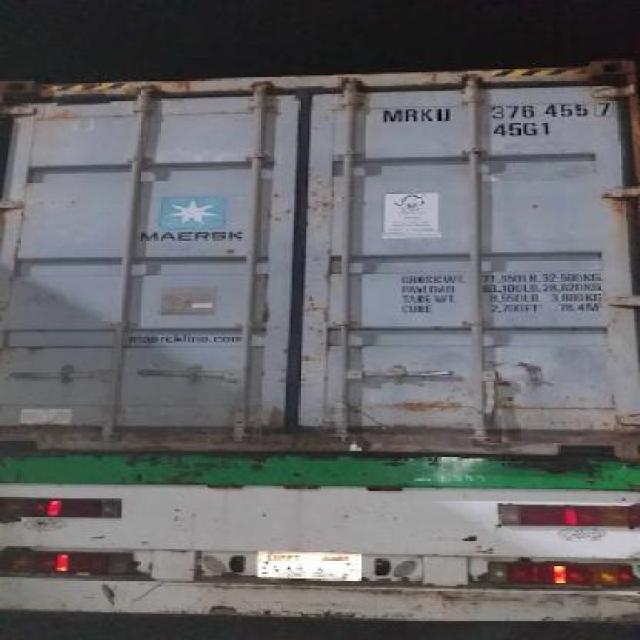ISO: (493, 120, 550, 138)
container_number: (379, 101, 614, 120)
